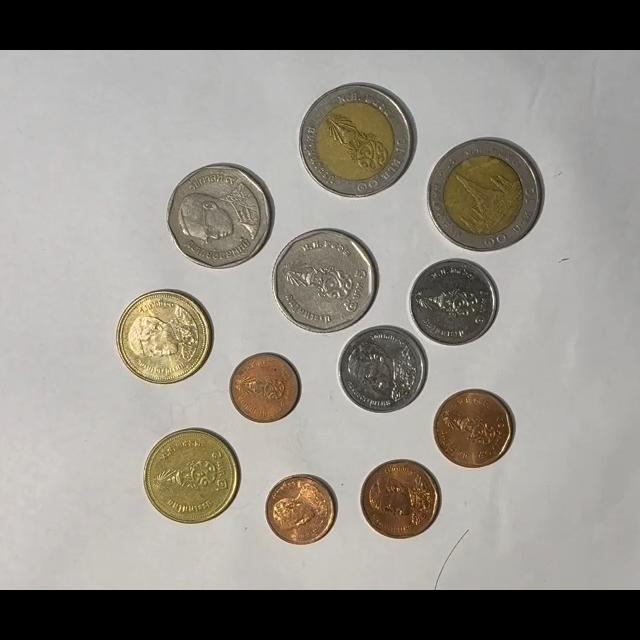1-baht: (408, 258, 499, 347), (337, 325, 426, 414)
10-baht: (299, 82, 416, 199), (427, 137, 543, 251)
2-baht: (143, 428, 241, 525), (116, 289, 212, 385)
25-satang: (264, 474, 337, 546), (229, 352, 300, 423)
5-baht: (167, 164, 274, 269), (272, 227, 377, 334)
50-satang: (360, 459, 441, 540), (433, 389, 515, 469)
